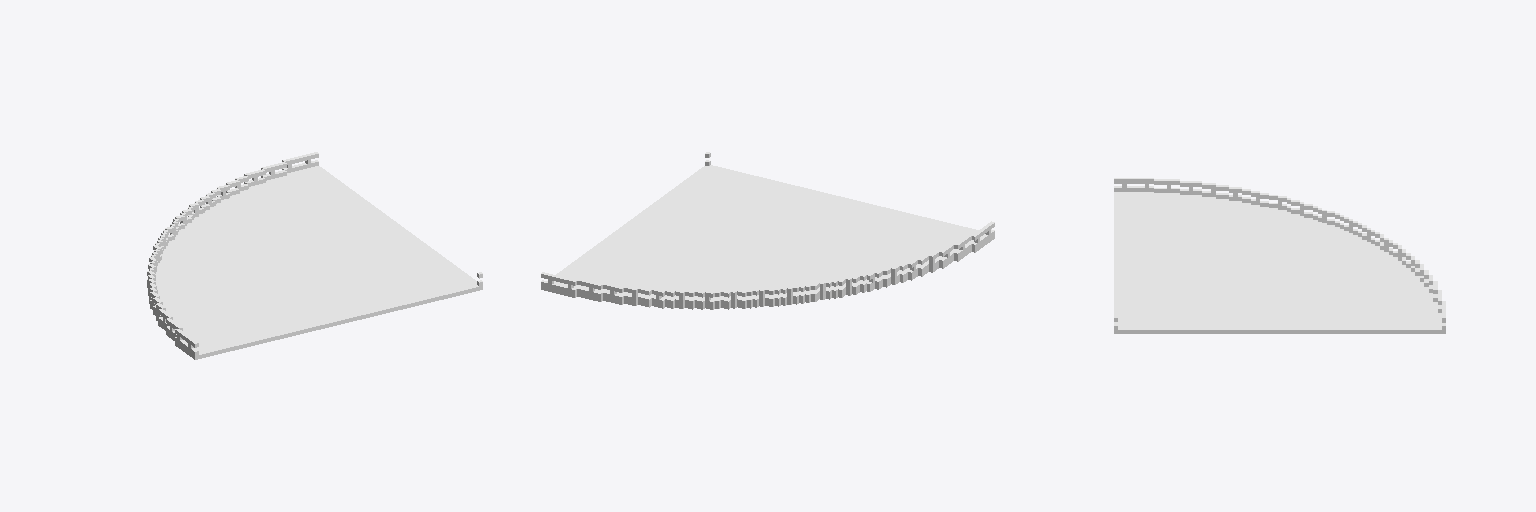
File: 90_0_right.obj
3 renders of one model, left to right at view 1: azimuth 30°, elevation 25°; view 2: azimuth 150°, elevation 25°; view 3: azimuth 270°, elevation 25°, orthographic.
Parts seen in each view (by area): view 1: 90_0_right; view 2: 90_0_right; view 3: 90_0_right.
Part boxes in pixels (x1,y1,x2,y2): 90_0_right: (147, 152, 482, 359); 90_0_right: (541, 152, 994, 309); 90_0_right: (1114, 178, 1445, 333).
Bounding box in the file's own units: 75 × 4 × 75.